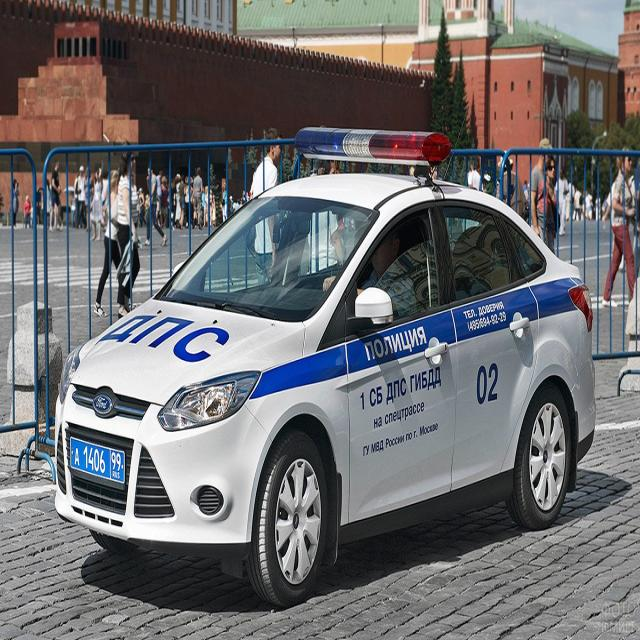number-plates: (69, 437, 125, 493)
